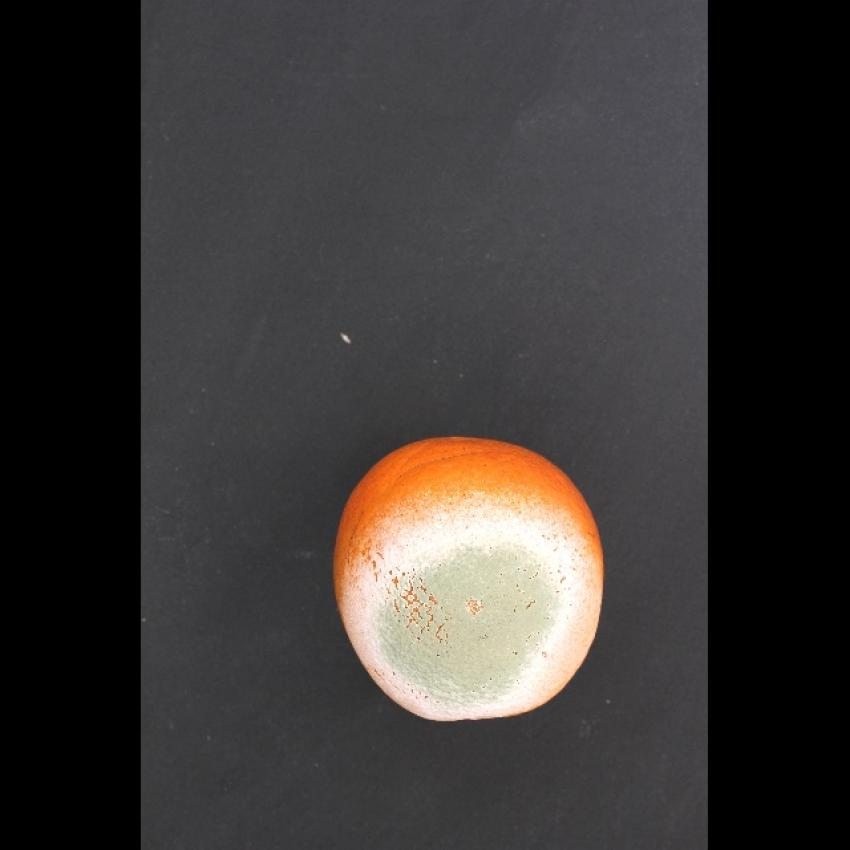Mal estado: (328, 425, 614, 736)
